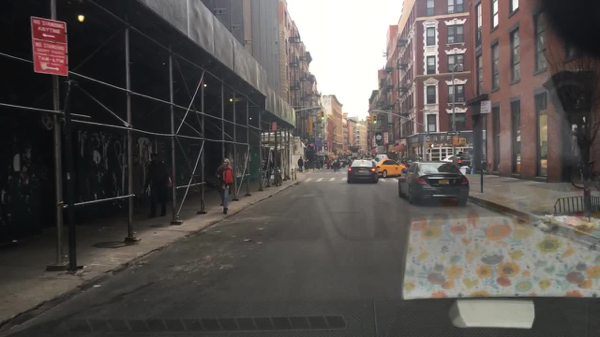car: (397, 162, 469, 207), (348, 159, 378, 184), (375, 159, 407, 178), (443, 155, 460, 165), (366, 156, 384, 163), (330, 160, 342, 169), (458, 154, 472, 160), (342, 156, 351, 165)
person: (141, 152, 172, 217), (216, 157, 233, 216), (263, 155, 272, 186), (302, 157, 309, 173), (316, 156, 321, 171), (298, 156, 302, 173), (333, 158, 337, 172), (326, 156, 330, 169), (336, 159, 340, 170), (358, 156, 365, 160)
traffic light: (339, 158, 346, 167), (316, 110, 321, 120), (320, 111, 325, 120), (374, 113, 378, 124), (368, 114, 371, 123)
traffic sign: (29, 15, 69, 75), (480, 100, 490, 114), (447, 130, 461, 136)
